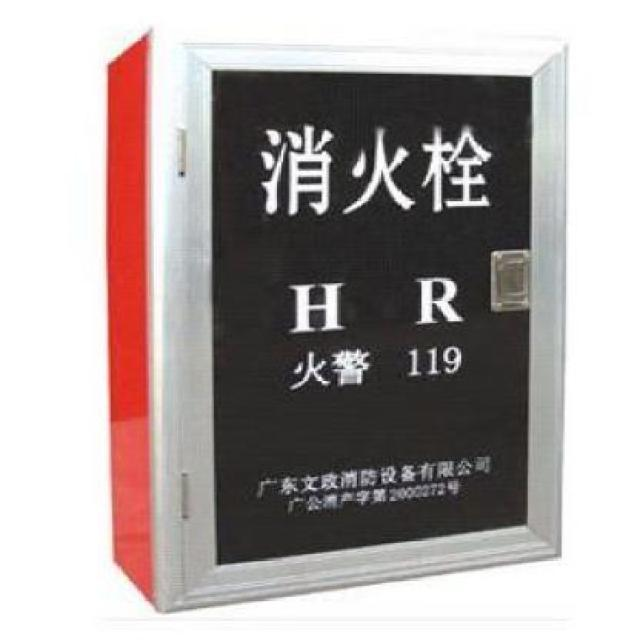firehydrant: (100, 19, 582, 618)
